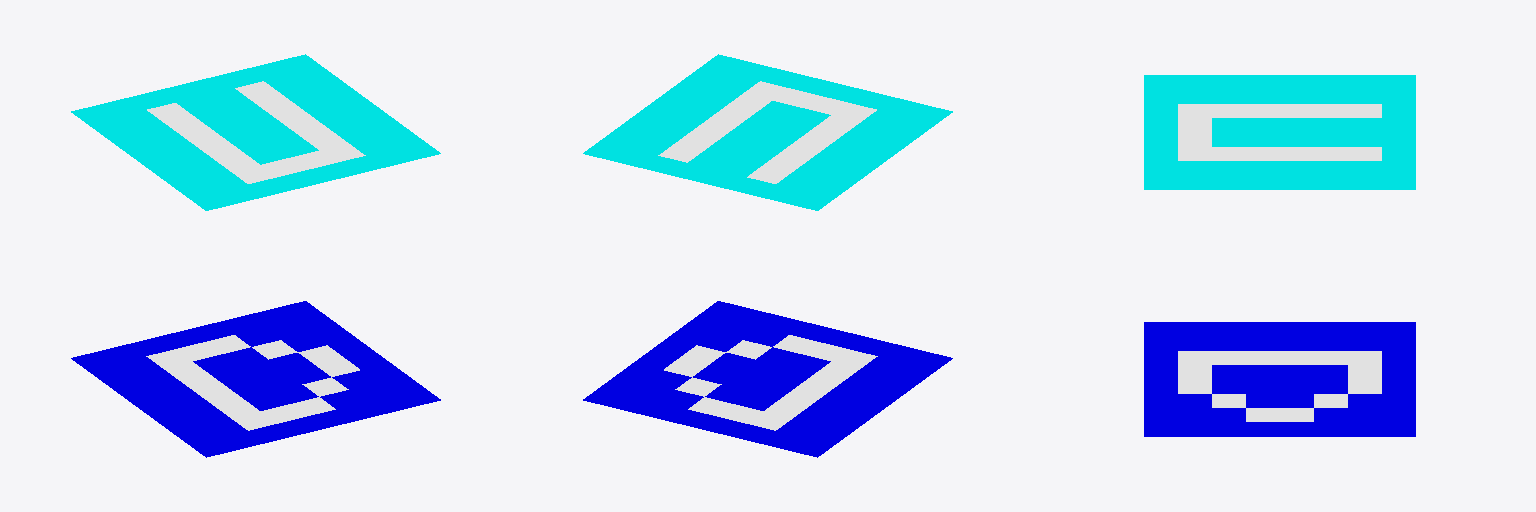
3 views of the same model, side by side, from view 1: azimuth 30°, elevation 25°; view 2: azimuth 150°, elevation 25°; view 3: azimuth 270°, elevation 25° (orthographic).
Parts seen in each view (by area): view 1: Cube; view 2: Cube; view 3: Cube.
Part boxes in pixels (x1,y1,x2,y2): Cube: (71, 54, 440, 457); Cube: (583, 54, 952, 457); Cube: (1144, 75, 1415, 436).
Size of the model in its own units: 2 by 2 by 2.
Materials: 1 (1 with a texture image).